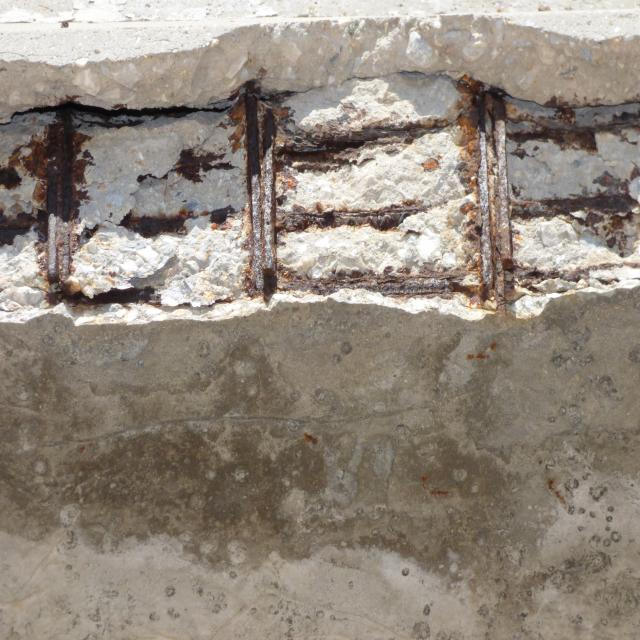corrosion: (0, 93, 640, 333)
